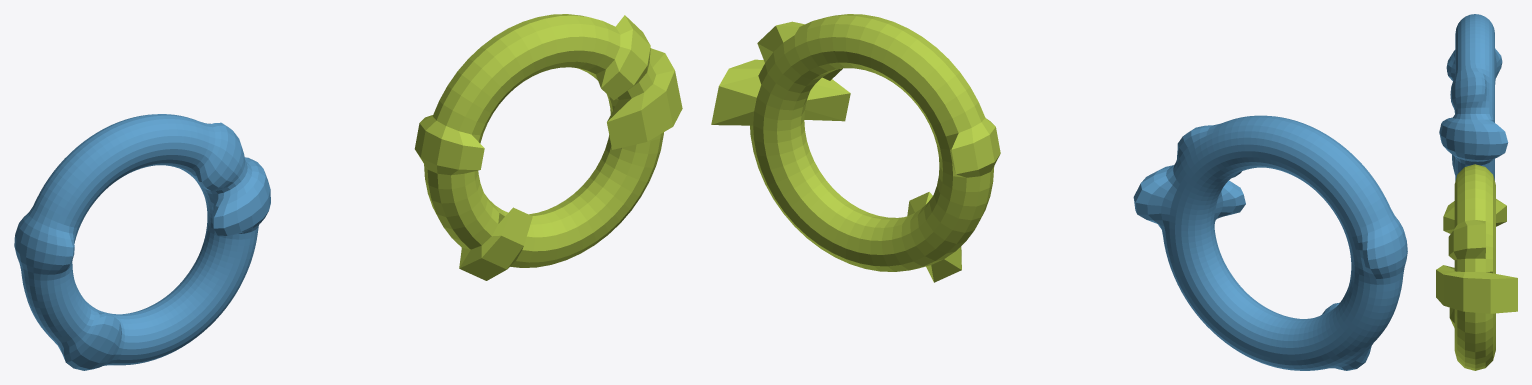
File: Closed-Volume.obj
3 views of the same model, side by side, from view 1: azimuth 30°, elevation 25°; view 2: azimuth 150°, elevation 25°; view 3: azimuth 270°, elevation 25° (orthographic). The views are drawn at different scales.
Parts seen in each view (by area): view 1: Torus, Torus.001; view 2: Torus, Torus.001; view 3: Torus, Torus.001.
Boxes of the visible parts, <box> form: Torus: <box>414,14,682,280</box>; Torus.001: <box>14,114,270,370</box>; Torus: <box>711,14,1000,282</box>; Torus.001: <box>1133,115,1407,370</box>; Torus: <box>1436,164,1517,370</box>; Torus.001: <box>1439,14,1508,180</box>.
Bounding box in the file's own units: 7.08 × 2.52 × 0.9882.
